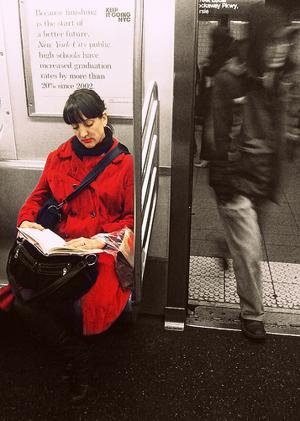person: (1, 89, 136, 341)
